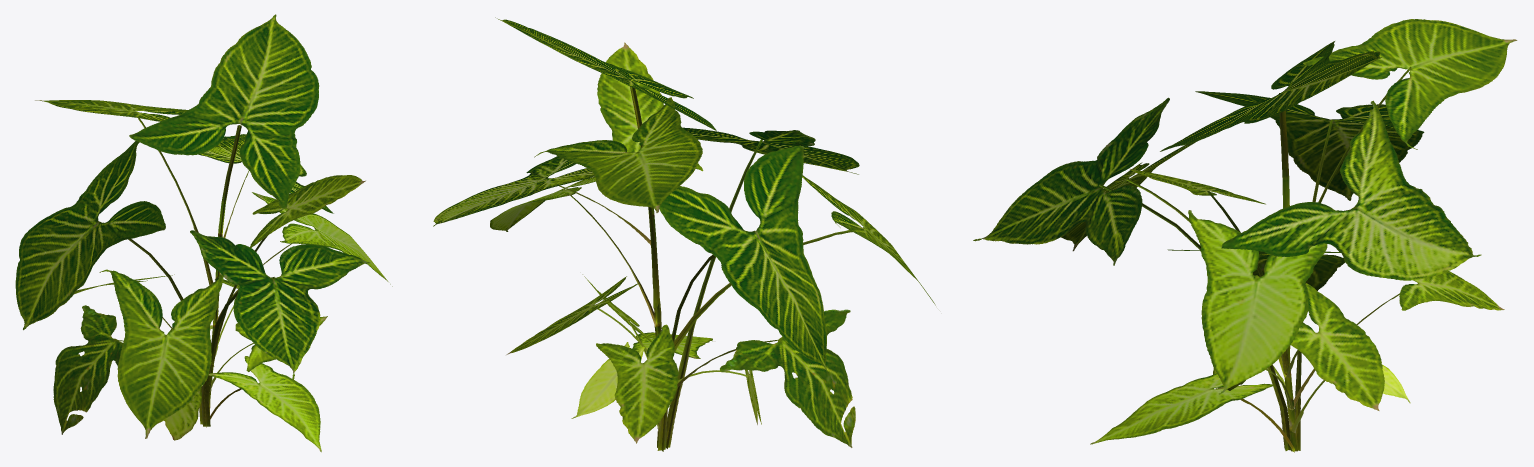
File: Q_Plant_Arrow_1.fbx
The picture shows the model from 3 angles, left to right: view 1: azimuth 30°, elevation 25°; view 2: azimuth 150°, elevation 25°; view 3: azimuth 270°, elevation 25°; orthographic projection. The views are drawn at different scales.
Visible parts, largest first — view 1: _c94f_Var1_LOD2; view 2: _c94f_Var1_LOD2; view 3: _c94f_Var1_LOD2.
Part boxes in pixels (left/top/right/bottom): _c94f_Var1_LOD2: left=15, top=14, right=392, bottom=452; _c94f_Var1_LOD2: left=433, top=17, right=935, bottom=451; _c94f_Var1_LOD2: left=973, top=19, right=1517, bottom=452.
Bounding box in the file's own units: 19.21 × 20.27 × 21.91.
1 material, 1 textured.
